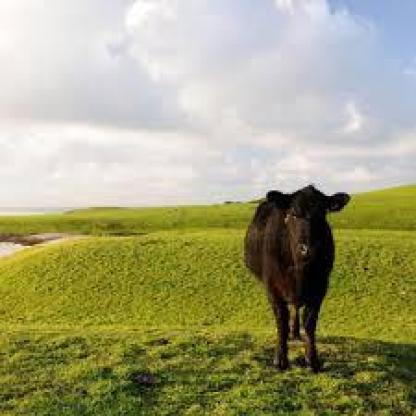cow: (244, 189, 349, 369)
